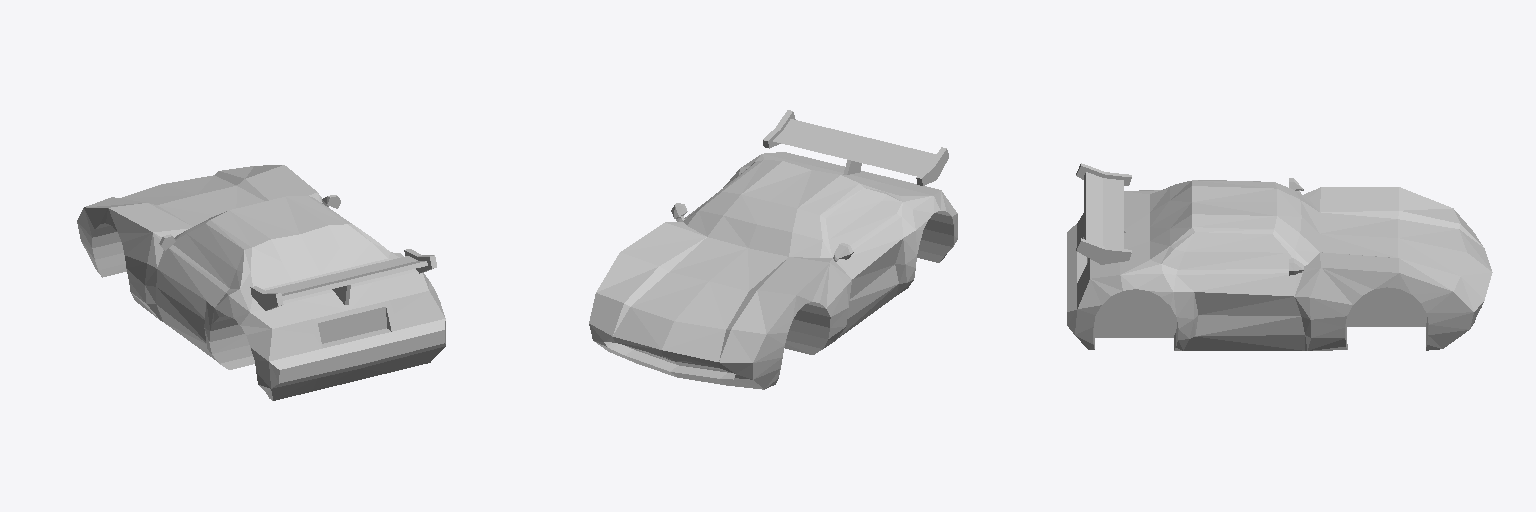
File: car.obj
The picture shows the model from 3 angles: view 1: azimuth 30°, elevation 25°; view 2: azimuth 150°, elevation 25°; view 3: azimuth 270°, elevation 25°; orthographic projection.
Parts seen in each view (by area): view 1: car:polySurface6; view 2: car:polySurface6; view 3: car:polySurface6.
Part boxes in pixels (x1,y1,x2,y2): car:polySurface6: (77,165,445,400); car:polySurface6: (589,110,957,389); car:polySurface6: (1067,163,1492,350).
Bounding box in the file's own units: 2.74 × 1.5 × 5.18.